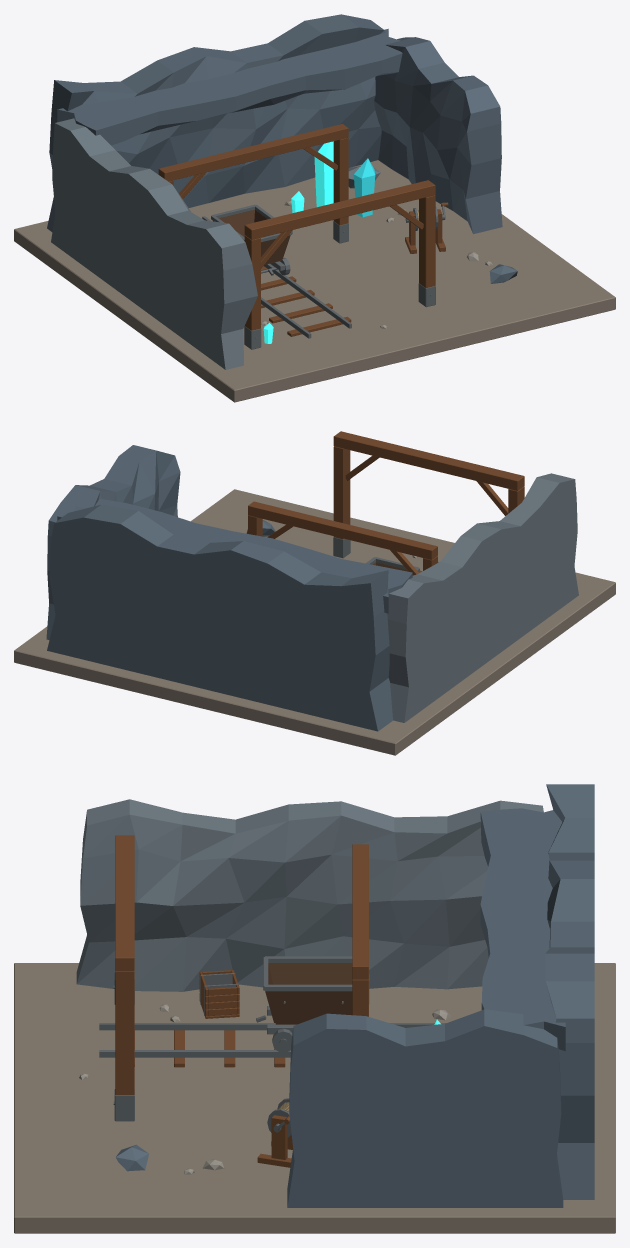
The picture shows the model from 3 angles, top to bottom: view 1: azimuth 30°, elevation 25°; view 2: azimuth 150°, elevation 25°; view 3: azimuth 270°, elevation 25°; orthographic projection. The views are drawn at different scales.
Visible parts, largest first — view 1: floor__ground, left_wall__faceted_strata, back_wall__faceted_strata, right_wall__faceted_strata, rear_rock_canopy__faceted_strata, entrance_support__lintel, inner_support__lintel, entrance_support, inner_support, abandoned_cart, focal_crystal__six_sided_growth, entrance_support__post_-1 (+2 smaller); view 2: back_wall__faceted_strata, left_wall__faceted_strata, floor__ground, right_wall__faceted_strata, rear_rock_canopy__faceted_strata, entrance_support__lintel, inner_support__lintel, entrance_support; view 3: floor__ground, left_wall__faceted_strata, right_wall__faceted_strata, back_wall__faceted_strata, rear_rock_canopy__faceted_strata, abandoned_cart, entrance_support, entrance_support__lintel, inner_support__lintel, abandoned_cart__side_plate_-1, supply_crate, rail_left__beam (+4 smaller).
Boxes of the visible parts, x1,y1,x2,y2 form: floor__ground: (14, 160, 615, 402); left_wall__faceted_strata: (51, 118, 257, 369); back_wall__faceted_strata: (47, 14, 385, 232); right_wall__faceted_strata: (374, 37, 502, 233); rear_rock_canopy__faceted_strata: (57, 28, 402, 145); entrance_support__lintel: (244, 180, 435, 239); inner_support__lintel: (158, 124, 348, 181); entrance_support: (390, 195, 435, 307); inner_support: (303, 137, 348, 243); abandoned_cart: (212, 204, 292, 275); focal_crystal__six_sided_growth: (314, 141, 333, 207); entrance_support__post_-1: (244, 235, 260, 330); back_wall__faceted_strata: (47, 504, 392, 731); left_wall__faceted_strata: (387, 473, 578, 722); floor__ground: (14, 489, 615, 755); right_wall__faceted_strata: (46, 445, 180, 639); rear_rock_canopy__faceted_strata: (57, 499, 412, 613); entrance_support__lintel: (333, 431, 524, 490); inner_support__lintel: (248, 501, 437, 559); entrance_support: (333, 446, 379, 558); floor__ground: (14, 963, 615, 1233); left_wall__faceted_strata: (76, 799, 543, 991); right_wall__faceted_strata: (287, 1009, 563, 1207); back_wall__faceted_strata: (545, 784, 594, 1199); rear_rock_canopy__faceted_strata: (480, 808, 565, 1051); abandoned_cart: (265, 984, 352, 1052); entrance_support: (113, 971, 134, 1121); entrance_support__lintel: (115, 835, 134, 971); inner_support__lintel: (352, 844, 368, 979); abandoned_cart__side_plate_-1: (268, 963, 352, 984); supply_crate: (199, 970, 239, 1016); rail_left__beam: (99, 1023, 446, 1030).
Size of the model in its own units: 12 by 4.78 by 12.
